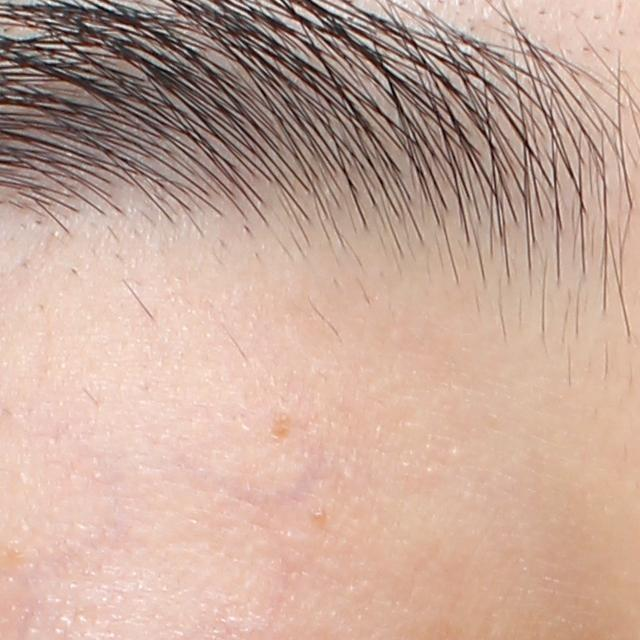melasma: (261, 414, 294, 449)
